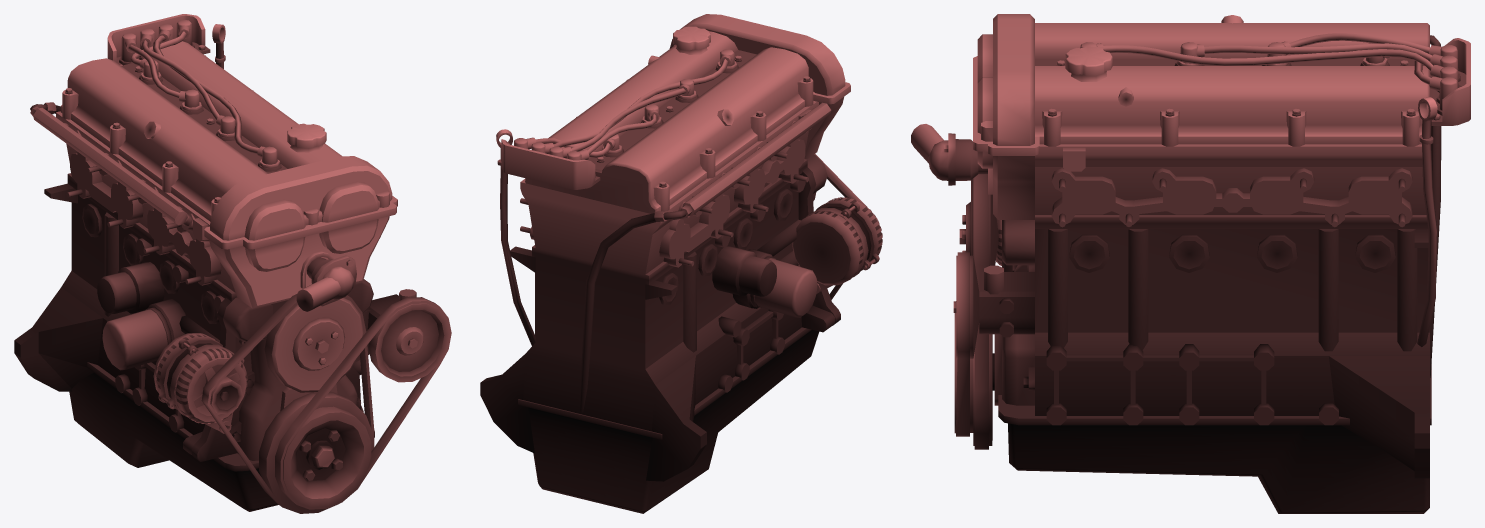
Rendered from BP_EngineBlock.fbx.
3 views of the same model, side by side, from view 1: azimuth 30°, elevation 25°; view 2: azimuth 150°, elevation 25°; view 3: azimuth 270°, elevation 25° (orthographic). The views are drawn at different scales.
Parts seen in each view (by area): view 1: BP_EngineBlock; view 2: BP_EngineBlock; view 3: BP_EngineBlock.
Part boxes in pixels (bbox=[...]): BP_EngineBlock: bbox=[14, 14, 451, 513]; BP_EngineBlock: bbox=[480, 14, 882, 513]; BP_EngineBlock: bbox=[911, 14, 1470, 513].
Bounding box in the file's own units: 49.47 × 68.82 × 77.77.
